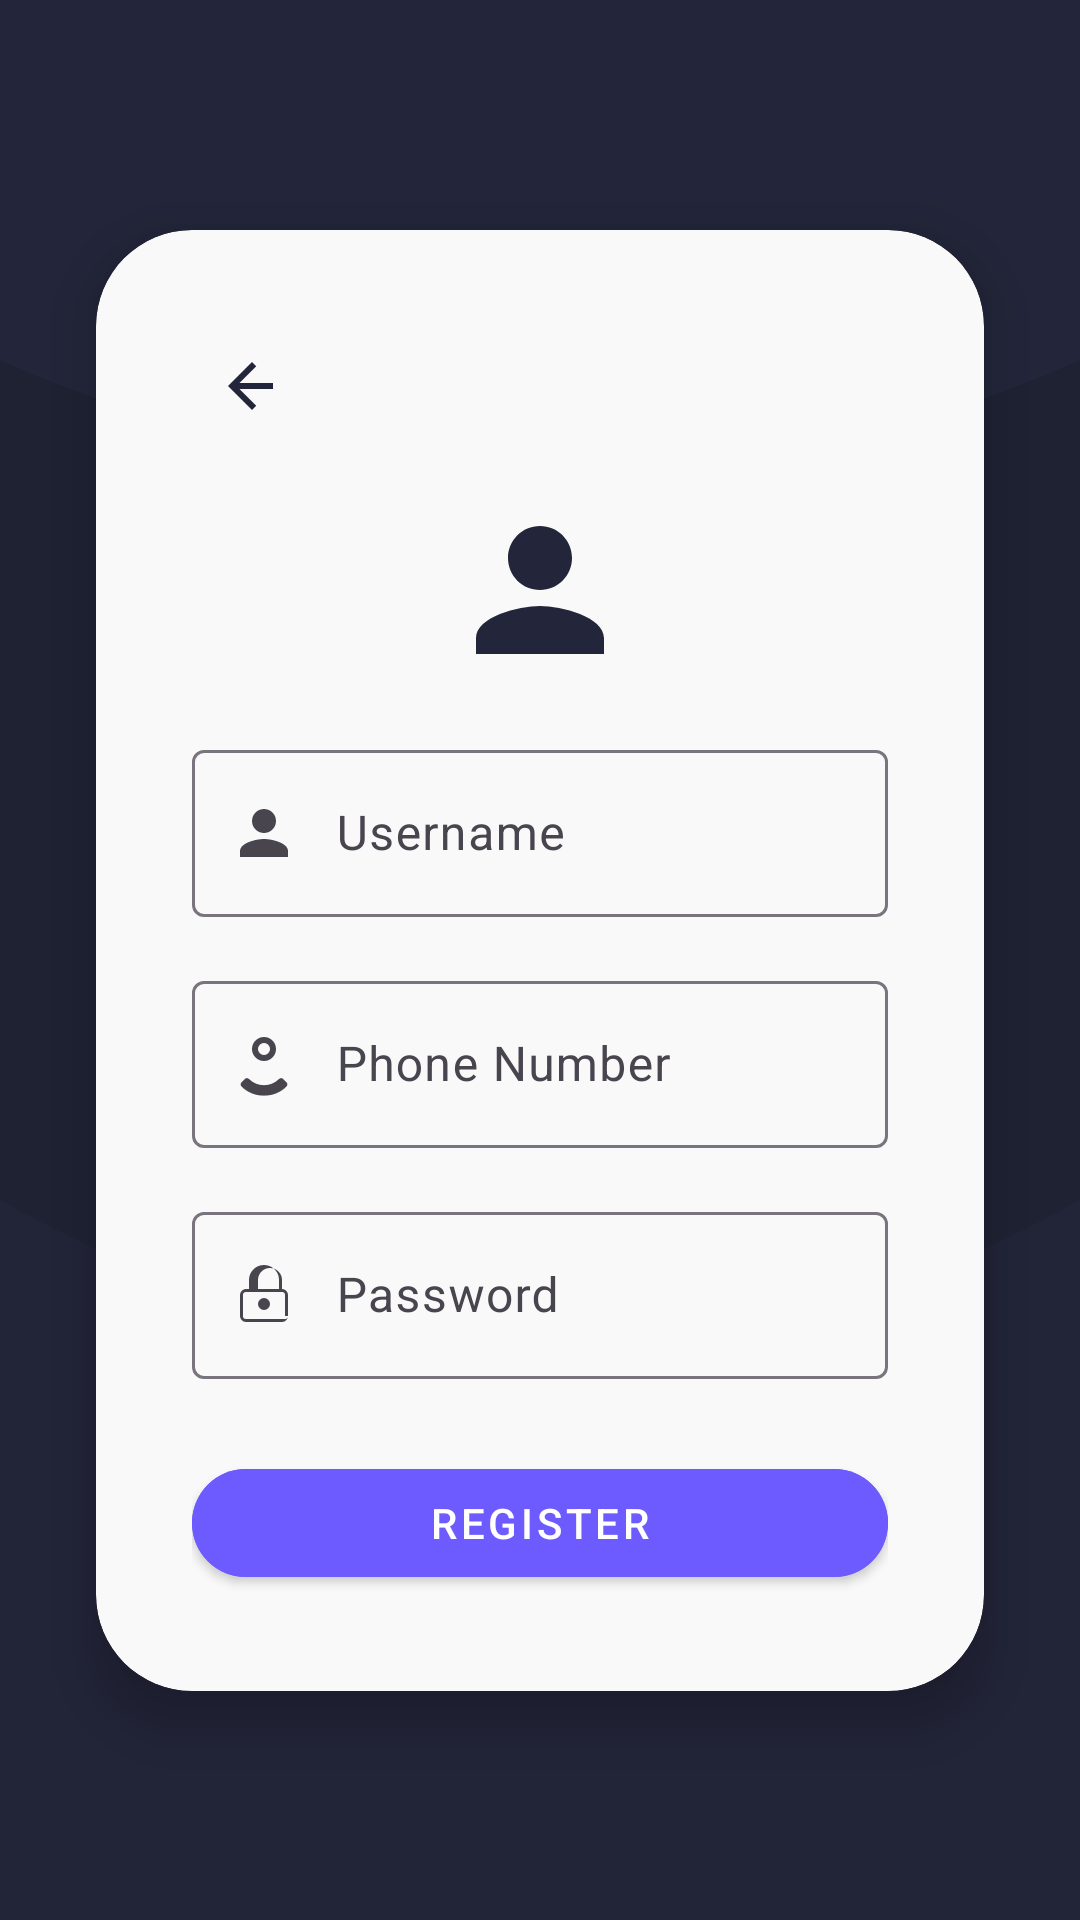

Where icons sit on this 1080x1920 app screen, as (x1, y1, x2, y2):
Back: (228, 362, 273, 410)
Register Icon: (476, 526, 604, 654)
